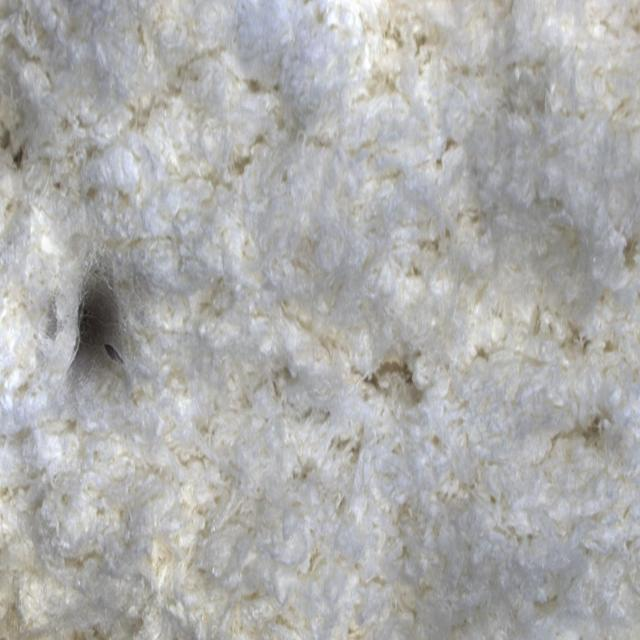dust: (14, 207, 198, 436)
